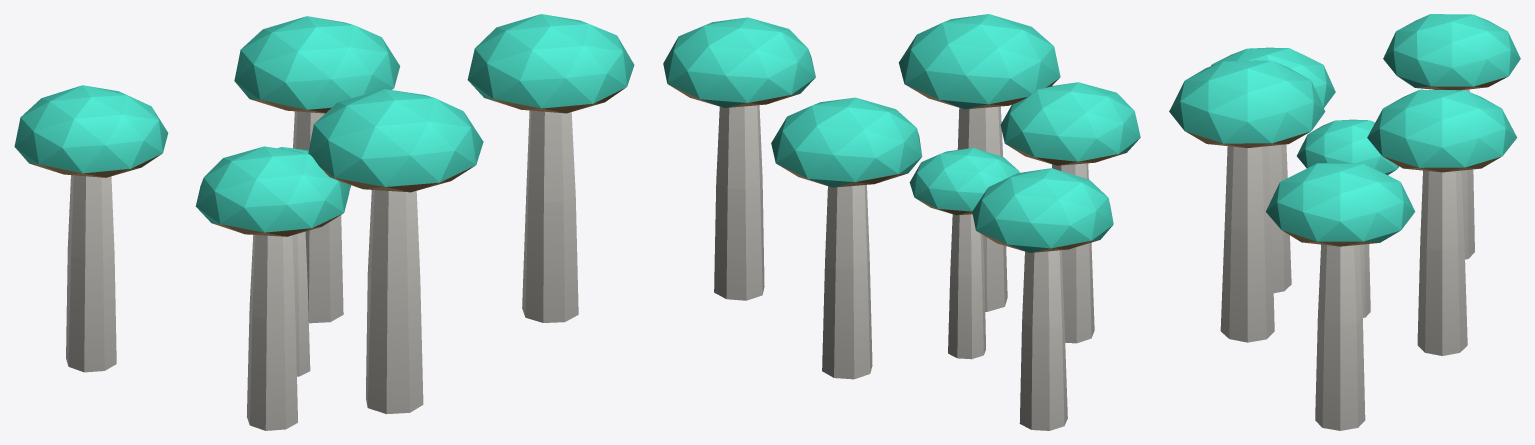
The model's file is mushroom_glow_01.glb.
The picture shows the model from 3 angles, left to right: view 1: azimuth 30°, elevation 25°; view 2: azimuth 150°, elevation 25°; view 3: azimuth 270°, elevation 25°; orthographic projection. The views are drawn at different scales.
Parts seen in each view (by area): view 1: mushroom_glow_01_LOD0; view 2: mushroom_glow_01_LOD0; view 3: mushroom_glow_01_LOD0.
Boxes of the visible parts, left/top/right/bottom form: mushroom_glow_01_LOD0: left=14, top=14, right=634, bottom=430; mushroom_glow_01_LOD0: left=663, top=14, right=1140, bottom=430; mushroom_glow_01_LOD0: left=1169, top=14, right=1520, bottom=430.
Size of the model in its own units: 0.6207 by 0.3366 by 0.4084.
1 material, 1 textured.
